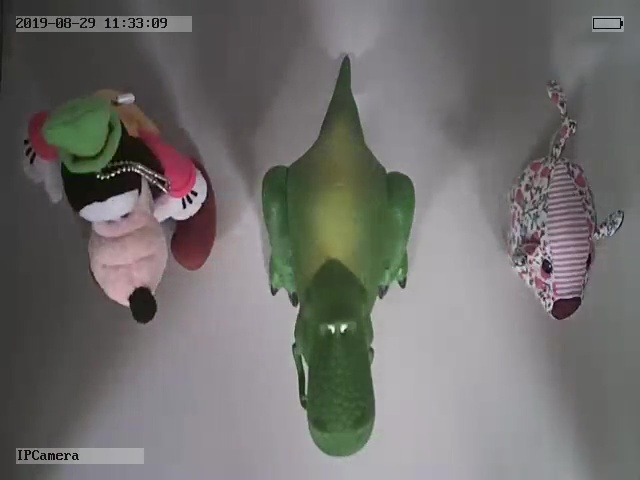goofy: (17, 84, 218, 325)
pig: (503, 78, 626, 321)
rex: (257, 52, 419, 459)
